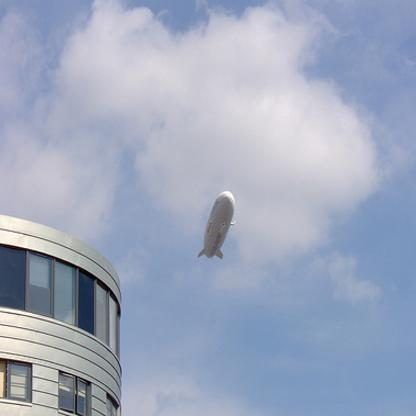Airship: (195, 186, 242, 270)
